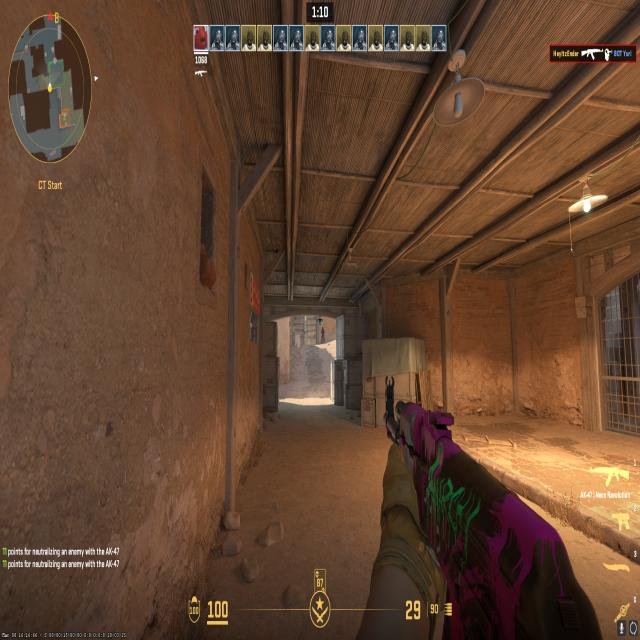ct: (320, 324, 327, 344)
